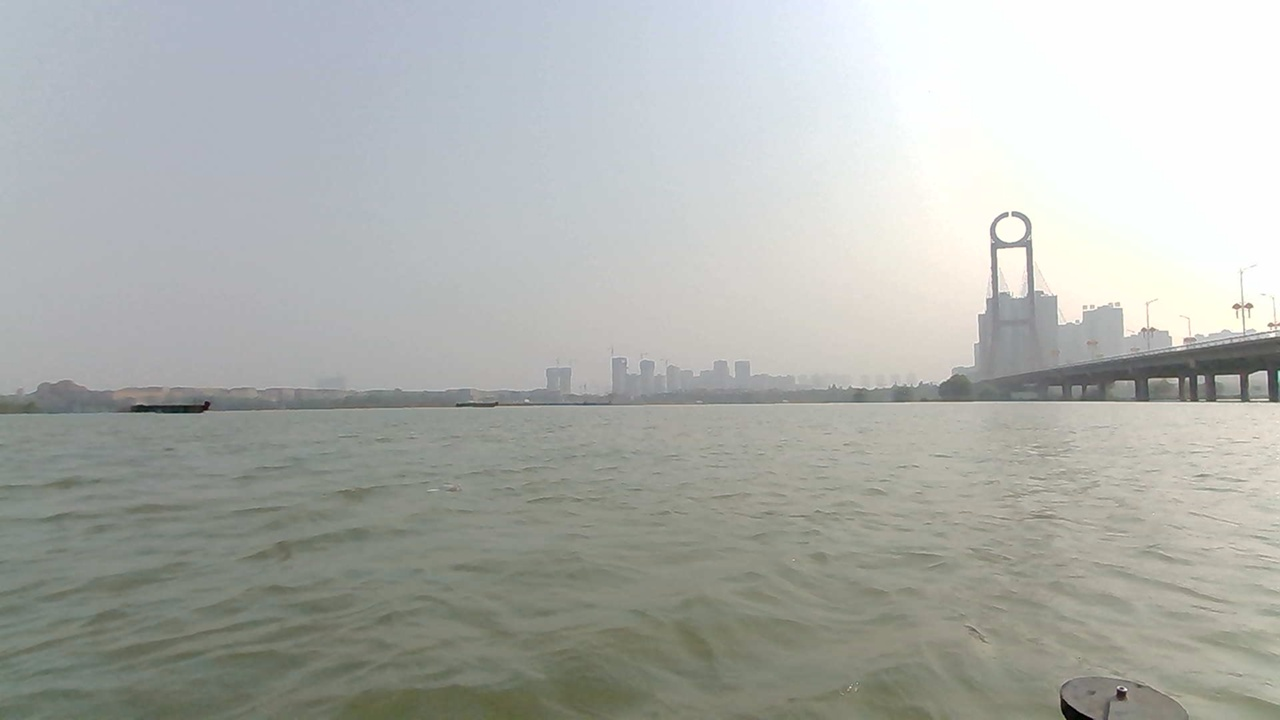bottle: (406, 479, 473, 508)
